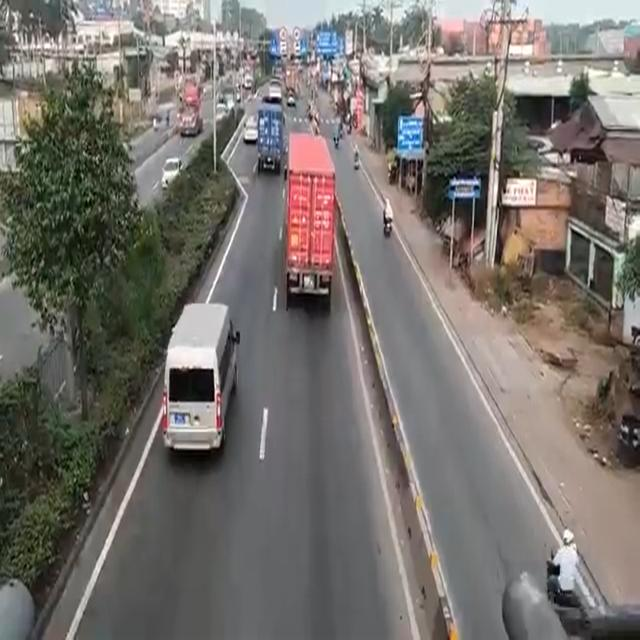car: (167, 299, 228, 459)
motor: (550, 528, 576, 594), (382, 198, 393, 245)
truck: (284, 133, 336, 298), (256, 99, 287, 182)
